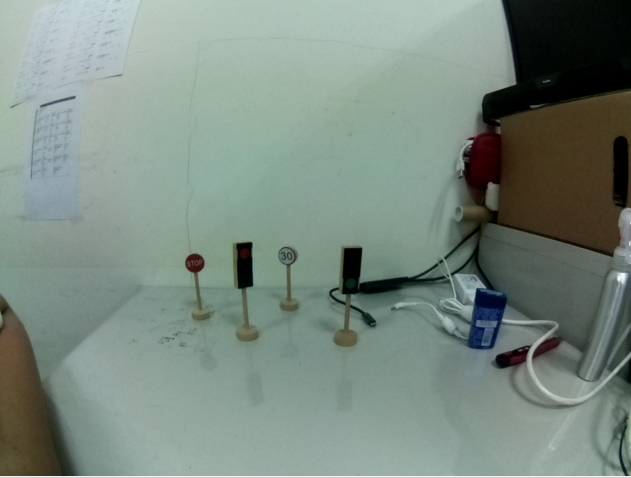Green: (337, 244, 366, 299)
Red: (229, 239, 258, 295)
Speed30: (278, 247, 299, 266)
Stop: (183, 253, 207, 274)
